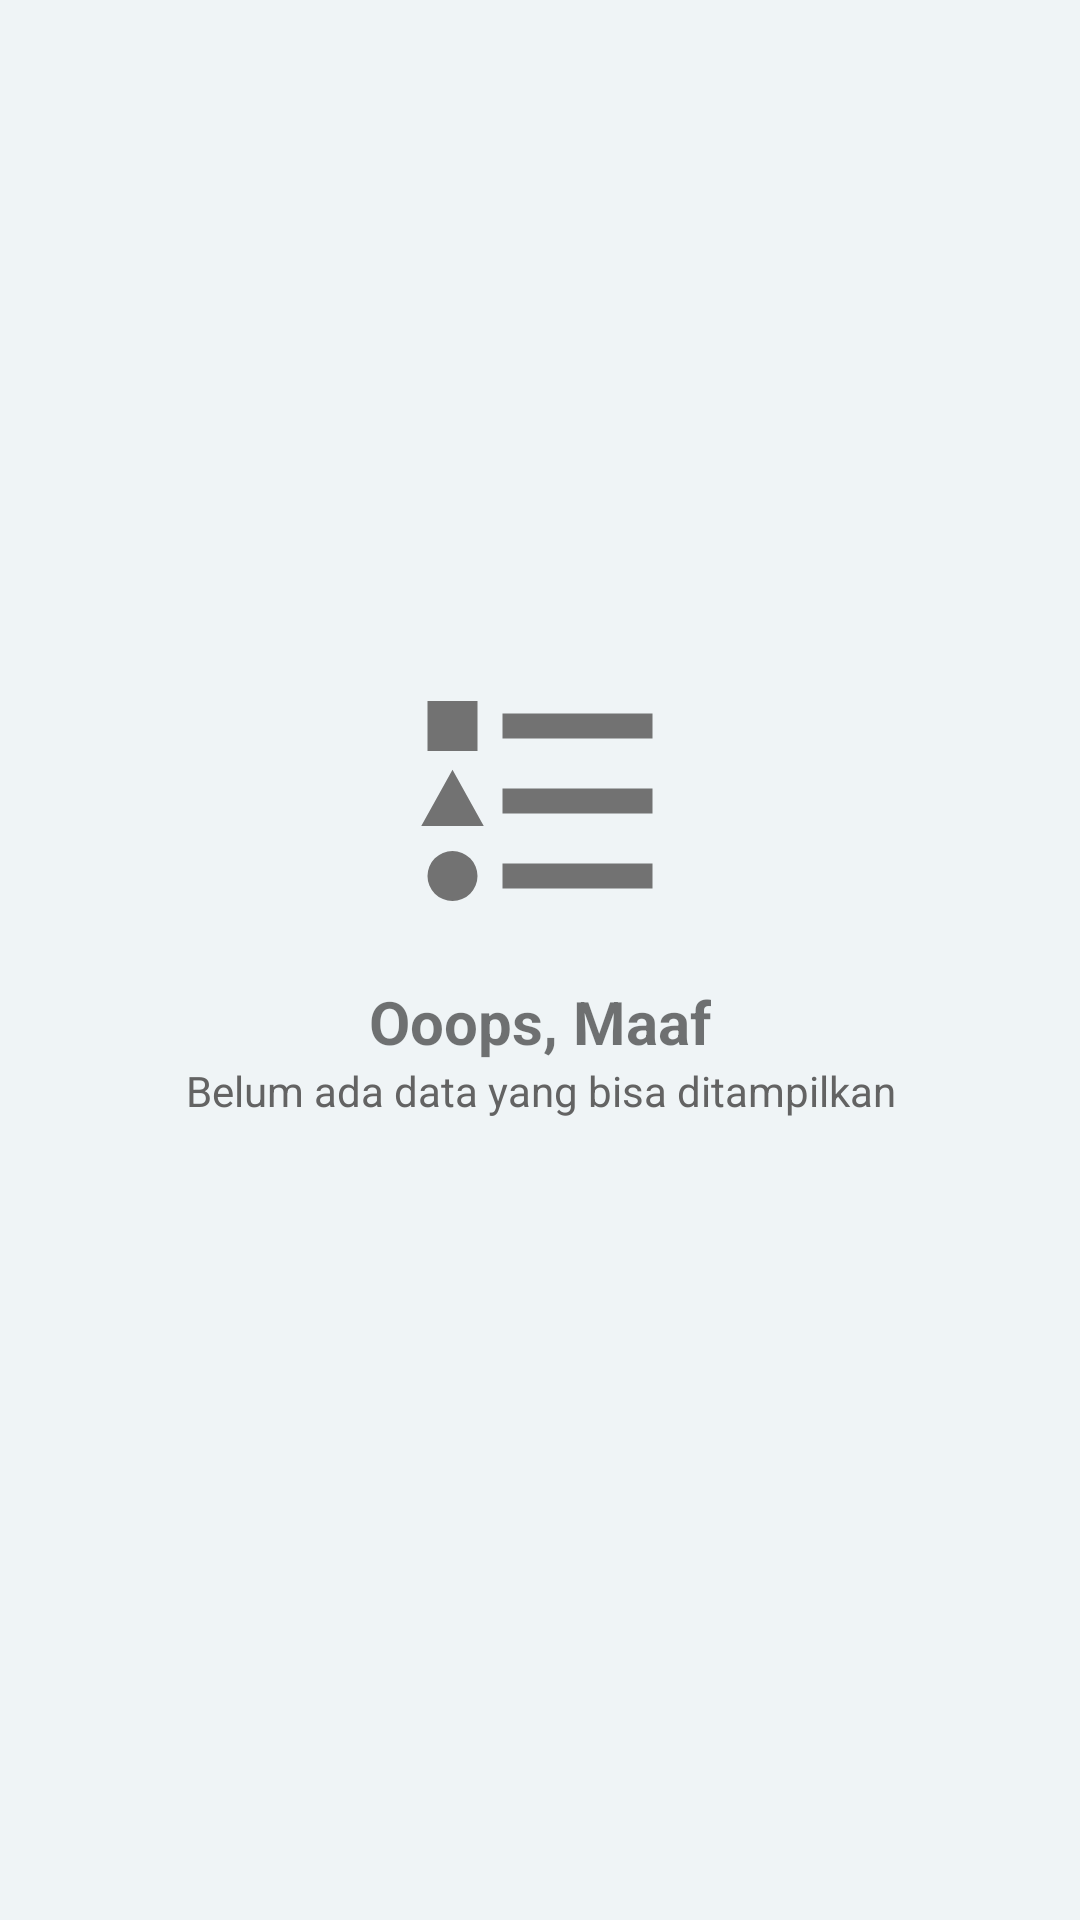

Point at icon controls on the screen. Image size 1080x1920, points as [x,y].
list data: [537,801]
